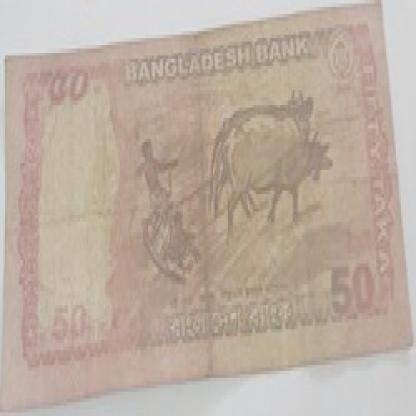Fifty taka: (45, 52, 106, 121), (328, 260, 378, 315)
